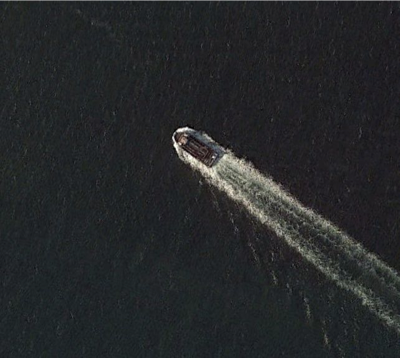boat: (172, 130, 223, 171)
